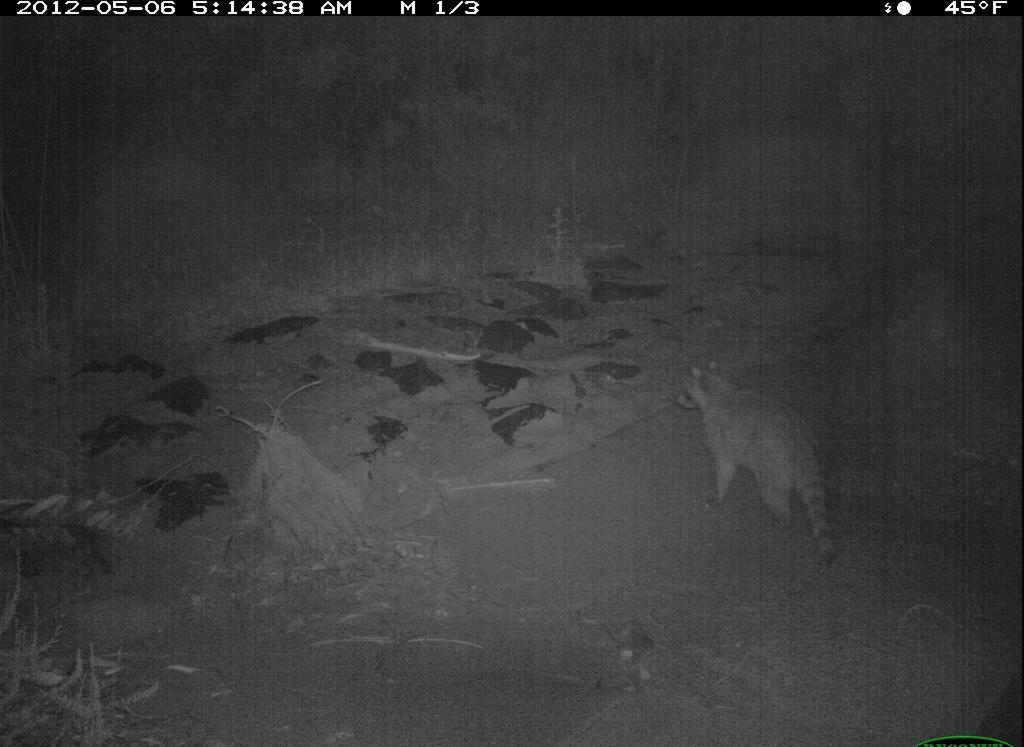raccoon: (656, 353, 857, 564)
